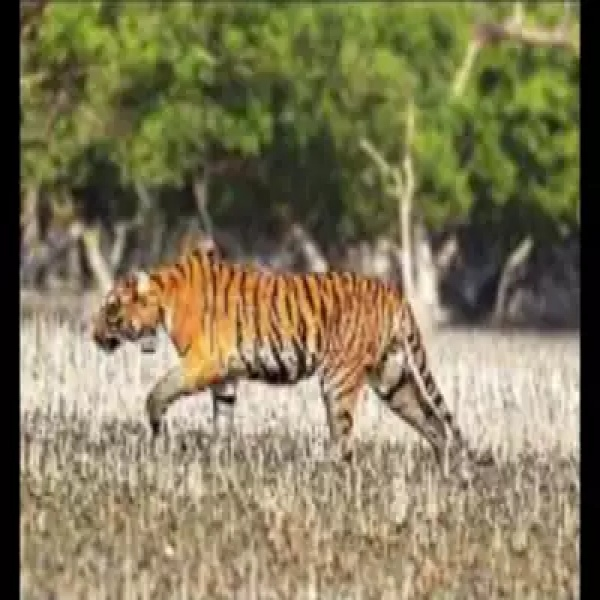Tiger: (91, 248, 497, 489)
